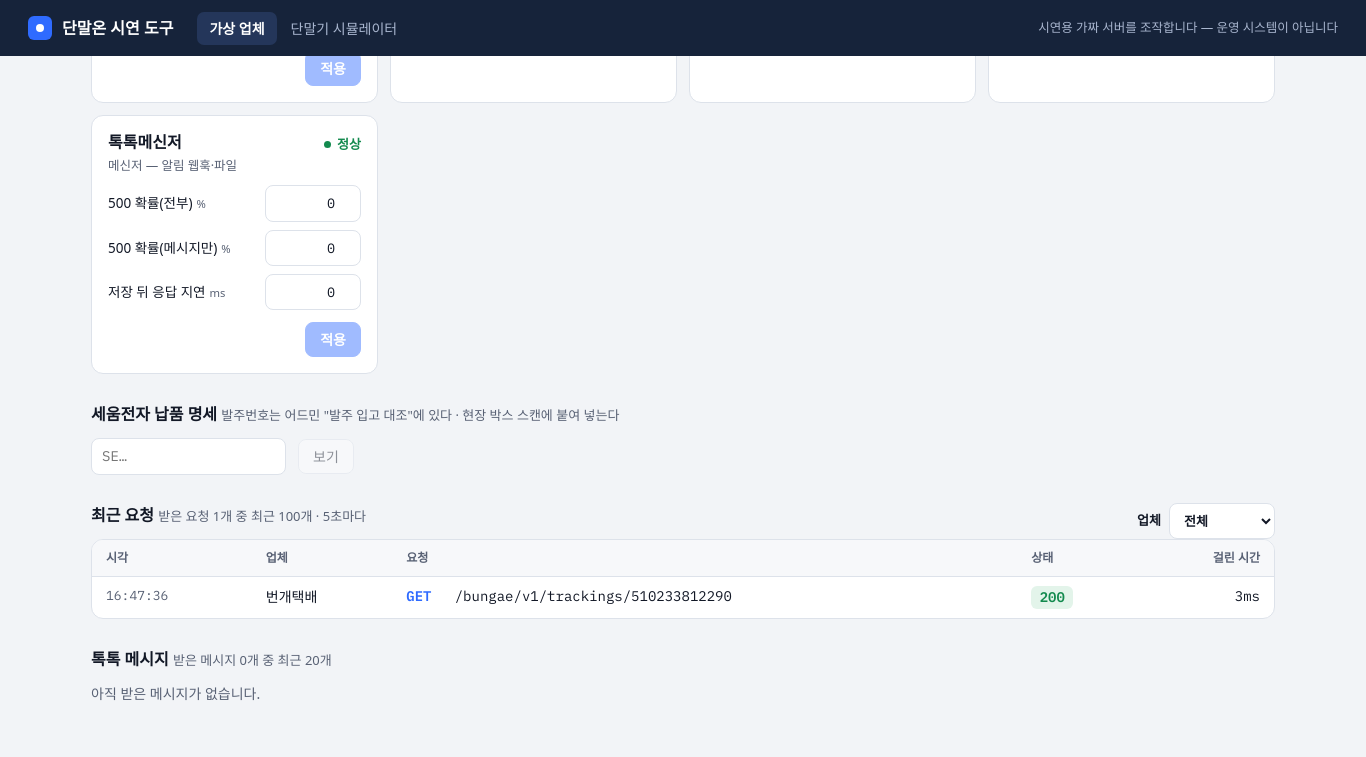
Test: 가상 업체 화면 (보강 8) › 없는 발주번호는 안내
(page scrolled)
Type "NOPE" into the field named "발주번호". click: (188, 456)
box: x1=91 y1=438 x2=286 y2=475
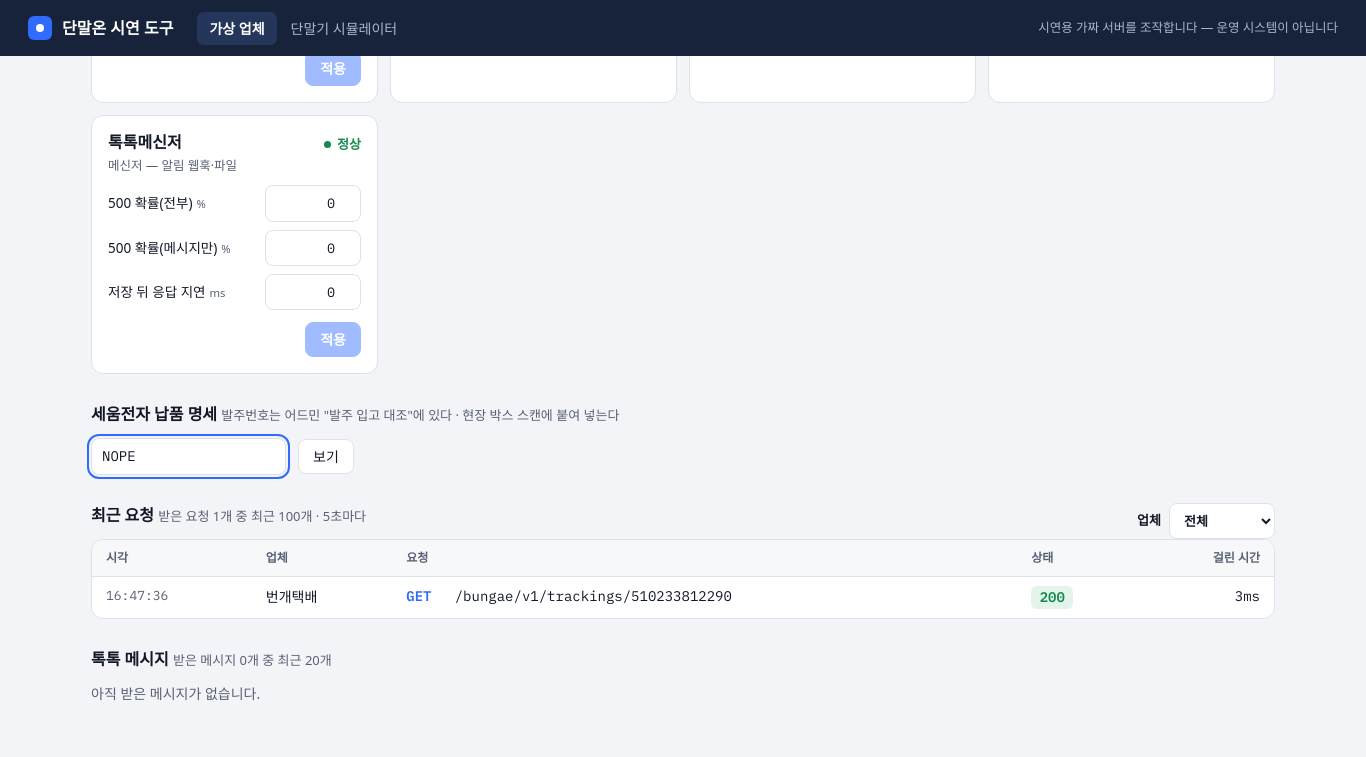
Click the button "보기". click: click(326, 456)
box: x1=298 y1=439 x2=354 y2=474
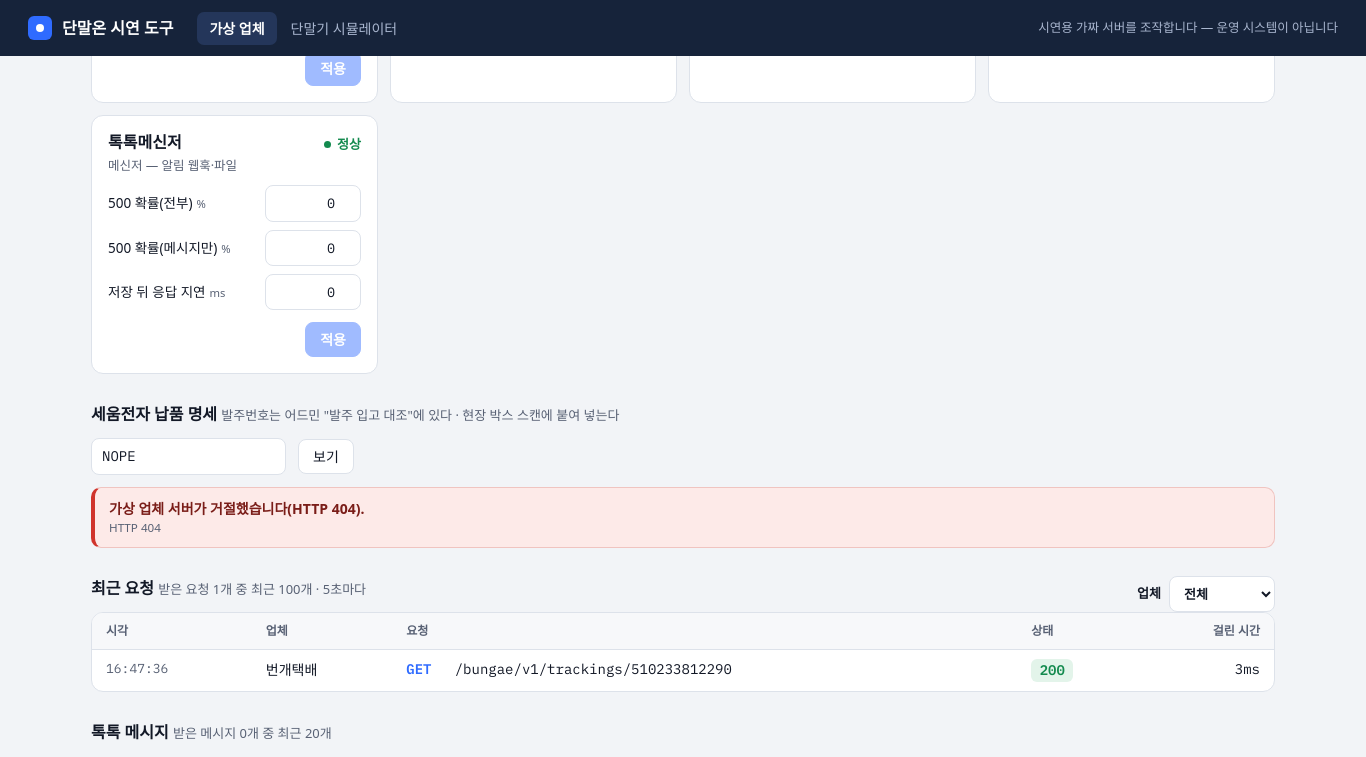
Now the message shows "HTTP 404", box x1=109 y1=520 x2=161 y2=535
